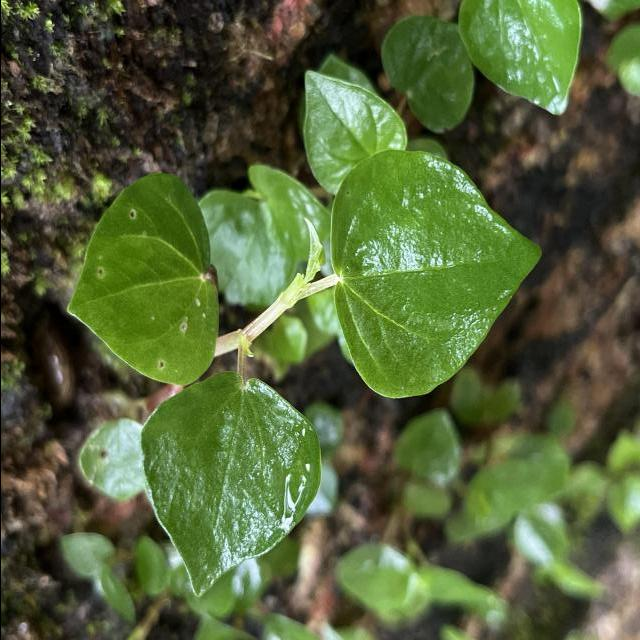Peperomia pellucida: (328, 148, 544, 400), (136, 369, 324, 598), (65, 171, 220, 387)
